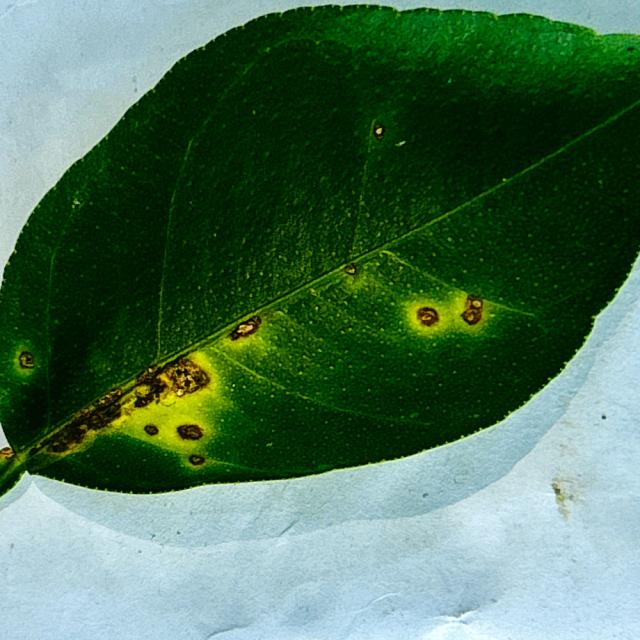Anthracnose: (136, 375, 218, 454), (406, 298, 490, 335), (225, 312, 274, 347), (367, 117, 401, 148), (12, 347, 40, 376), (339, 262, 368, 287)
Lemon: (0, 0, 639, 632)
